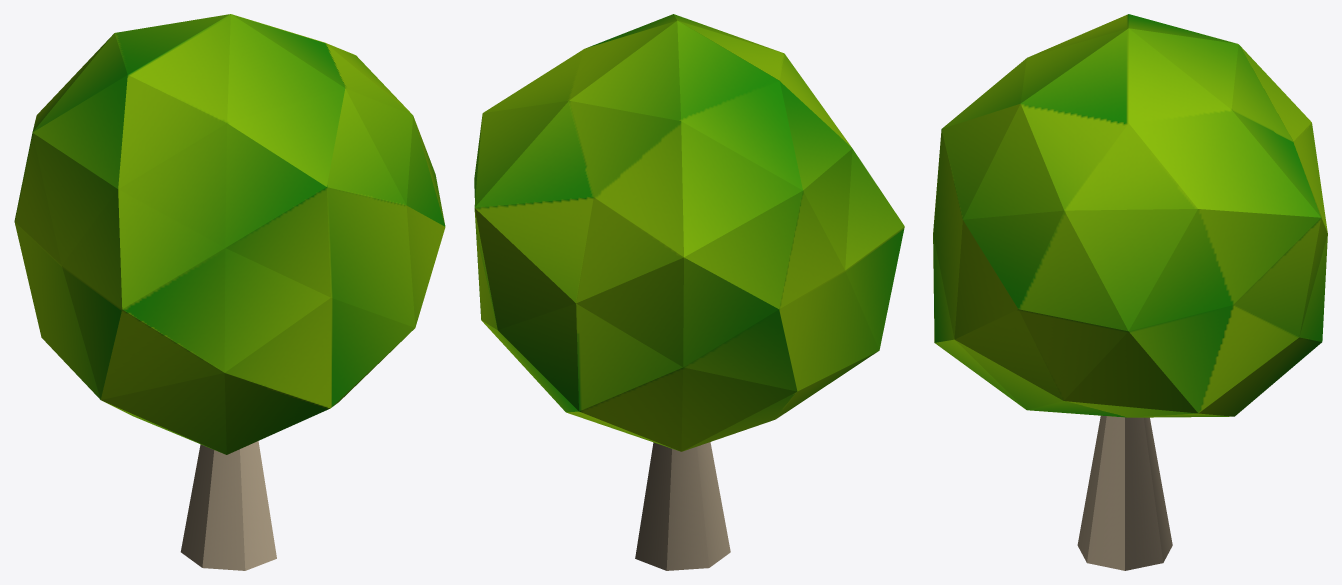
The model's file is laubbaum3.fbx.
The picture shows the model from 3 angles, left to right: view 1: azimuth 30°, elevation 25°; view 2: azimuth 150°, elevation 25°; view 3: azimuth 270°, elevation 25°; orthographic projection. The views are drawn at different scales.
Parts seen in each view (by area): view 1: Kugel, Null; view 2: Kugel, Null; view 3: Kugel, Null.
Part boxes in pixels (<box>): Kugel: <box>14,14,445,454</box>; Null: <box>180,441,276,570</box>; Kugel: <box>474,14,904,451</box>; Null: <box>635,442,730,570</box>; Kugel: <box>933,14,1327,417</box>; Null: <box>1077,415,1172,570</box>.
Bounding box in the file's own units: 4319 × 5910 × 4044.
